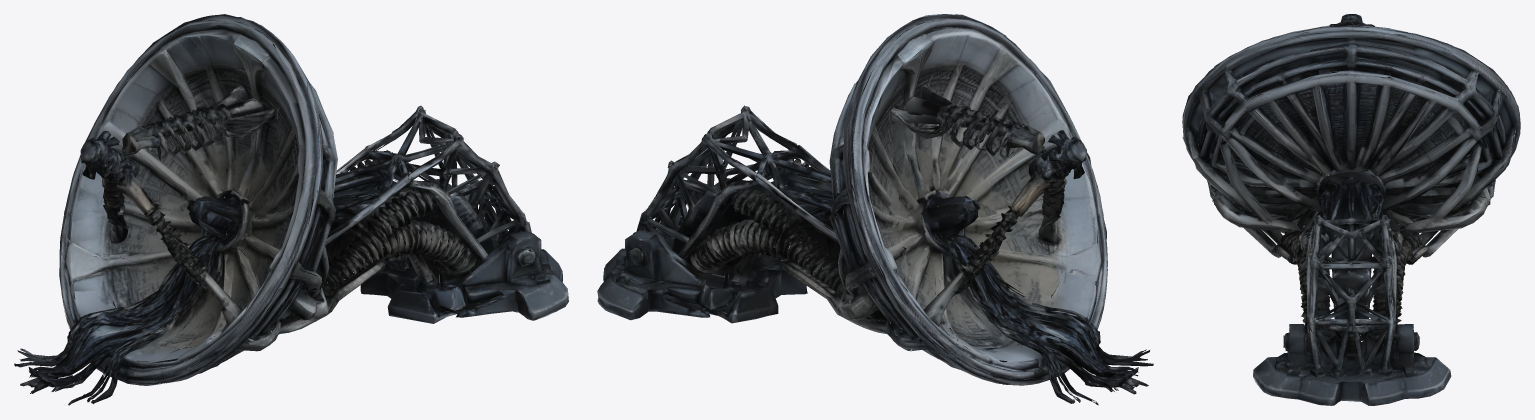
The model's file is life_fallen_comm_dish.glb.
3 renders of one model, left to right at view 1: azimuth 30°, elevation 25°; view 2: azimuth 150°, elevation 25°; view 3: azimuth 270°, elevation 25°, orthographic. The views are drawn at different scales.
Parts seen in each view (by area): view 1: node_0; view 2: node_0; view 3: node_0.
Boxes of the visible parts, x1,y1,x2,y2 form: node_0: (14,14,568,405); node_0: (597,14,1153,405); node_0: (1182,14,1520,405).
Bounding box in the file's own units: 1.05 × 0.5883 × 0.6809.
1 material, 1 textured.
